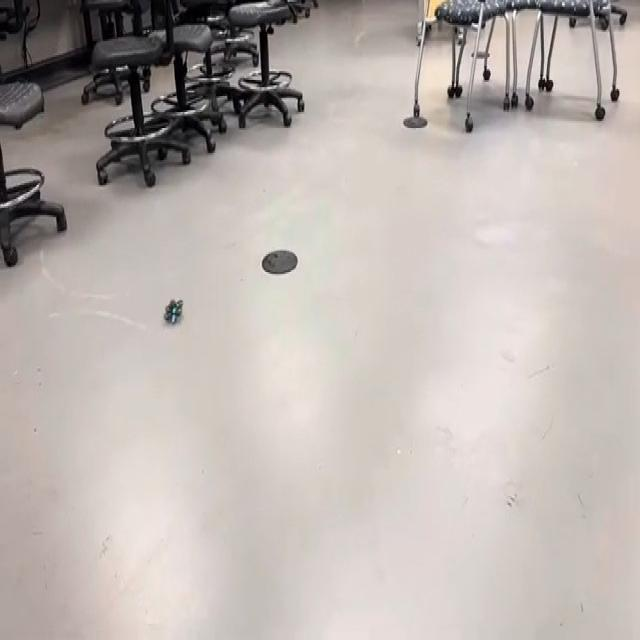drone: (155, 284, 190, 334)
